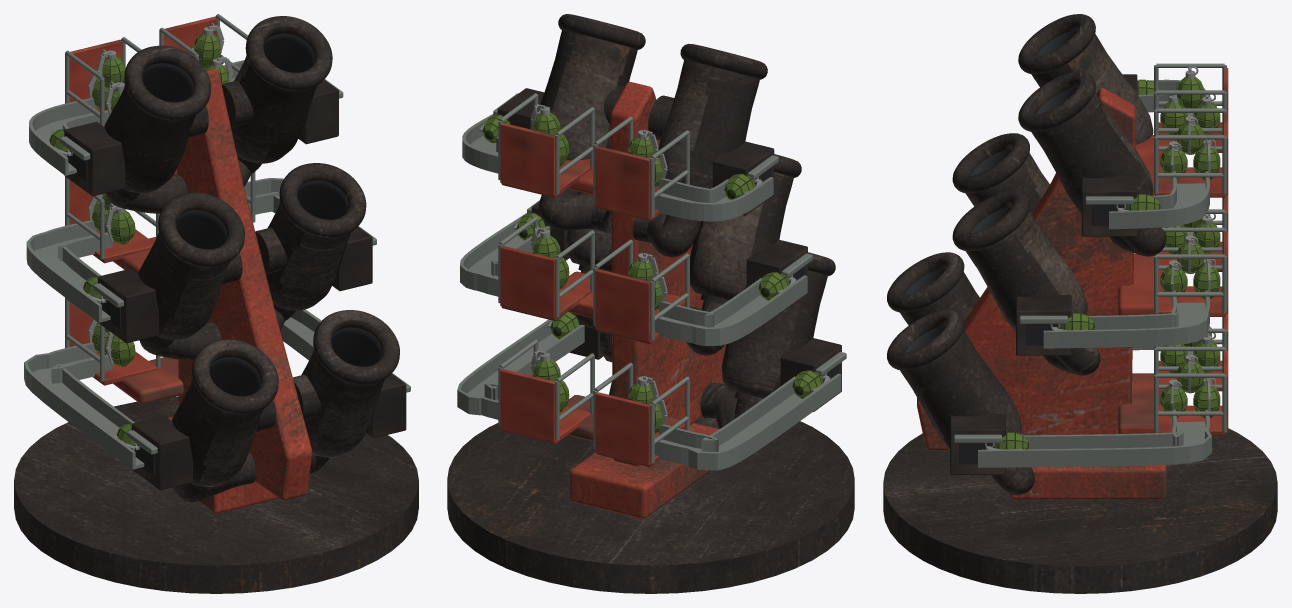
File: six_lobber_loose_grenade_loader_v05.glb
The picture shows the model from 3 angles, left to right: view 1: azimuth 30°, elevation 25°; view 2: azimuth 150°, elevation 25°; view 3: azimuth 270°, elevation 25°; orthographic projection. The views are drawn at different scales.
Visible parts, largest first — view 1: ROTARY_ADAPTER, CENTRAL_FIN, CAST_CANNON_LEFT_1, CAST_CANNON_LEFT_2, CAST_CANNON_LEFT_3, OPEN_GRENADE_GUIDE_LEFT_3, ROUNDED_MUZZLE_LEFT_2, ROUNDED_MUZZLE_LEFT_3, ROUNDED_MUZZLE_LEFT_1, OPEN_GRENADE_GUIDE_LEFT_2, SIDE_LOADING_HOOD_LEFT_3, SIDE_LOADING_HOOD_LEFT_1 (+19 smaller); view 2: ROTARY_ADAPTER, CAST_CANNON_LEFT_1, OPEN_GRENADE_GUIDE_LEFT_3, CENTRAL_FIN, CAST_CANNON_LEFT_2, OPEN_GRENADE_GUIDE_LEFT_2, OPEN_CRADLE_BACK_LEFT_3, OPEN_CRADLE_BACK_LEFT_1, OPEN_CRADLE_BACK_LEFT_2, CAST_CANNON_LEFT_3, FIN_ROOT, OPEN_GRENADE_GUIDE_LEFT_1 (+19 smaller); view 3: ROTARY_ADAPTER, CENTRAL_FIN, CAST_CANNON_LEFT_1, CAST_CANNON_LEFT_2, CAST_CANNON_LEFT_3, OPEN_GRENADE_GUIDE_LEFT_3, ROUNDED_MUZZLE_LEFT_1, ROUNDED_MUZZLE_LEFT_3, ROUNDED_MUZZLE_LEFT_2, OPEN_GRENADE_GUIDE_LEFT_2, FIN_ROOT, OPEN_GRENADE_GUIDE_LEFT_1 (+24 smaller).
Boxes of the visible parts, <box> form: ROTARY_ADAPTER: <box>14,396,418,593</box>; CENTRAL_FIN: <box>177,69,312,500</box>; CAST_CANNON_LEFT_1: <box>104,33,317,193</box>; CAST_CANNON_LEFT_2: <box>138,180,351,340</box>; CAST_CANNON_LEFT_3: <box>172,327,384,486</box>; OPEN_GRENADE_GUIDE_LEFT_3: <box>24,309,321,469</box>; ROUNDED_MUZZLE_LEFT_2: <box>158,163,366,267</box>; ROUNDED_MUZZLE_LEFT_3: <box>192,310,399,414</box>; ROUNDED_MUZZLE_LEFT_1: <box>124,16,332,120</box>; OPEN_GRENADE_GUIDE_LEFT_2: <box>26,178,283,322</box>; SIDE_LOADING_HOOD_LEFT_3: <box>131,373,406,490</box>; SIDE_LOADING_HOOD_LEFT_1: <box>64,79,338,196</box>; ROTARY_ADAPTER: <box>447,416,854,593</box>; CAST_CANNON_LEFT_1: <box>538,30,759,188</box>; OPEN_GRENADE_GUIDE_LEFT_3: <box>457,319,841,470</box>; CENTRAL_FIN: <box>610,82,726,466</box>; CAST_CANNON_LEFT_2: <box>566,172,793,300</box>; OPEN_GRENADE_GUIDE_LEFT_2: <box>460,213,807,345</box>; OPEN_CRADLE_BACK_LEFT_3: <box>500,369,650,465</box>; OPEN_CRADLE_BACK_LEFT_1: <box>500,123,650,219</box>; OPEN_CRADLE_BACK_LEFT_2: <box>500,246,650,342</box>; CAST_CANNON_LEFT_3: <box>600,270,827,398</box>; FIN_ROOT: <box>570,422,718,518</box>; OPEN_GRENADE_GUIDE_LEFT_1: <box>462,114,773,221</box>; ROTARY_ADAPTER: <box>883,428,1277,593</box>; CENTRAL_FIN: <box>917,88,1135,450</box>; CAST_CANNON_LEFT_1: <box>1031,30,1153,214</box>; CAST_CANNON_LEFT_2: <box>965,149,1087,333</box>; CAST_CANNON_LEFT_3: <box>900,269,1021,452</box>; OPEN_GRENADE_GUIDE_LEFT_3: <box>978,326,1211,467</box>; ROUNDED_MUZZLE_LEFT_1: <box>1018,14,1095,131</box>; ROUNDED_MUZZLE_LEFT_3: <box>887,252,964,370</box>; ROUNDED_MUZZLE_LEFT_2: <box>952,133,1029,251</box>; OPEN_GRENADE_GUIDE_LEFT_2: <box>1043,214,1209,348</box>; FIN_ROOT: <box>1009,464,1166,499</box>; OPEN_GRENADE_GUIDE_LEFT_1: <box>1109,79,1209,229</box>.
Bounding box in the file's own units: 1.56 × 2.01 × 1.56.
Materials: 7 (2 with a texture image).
